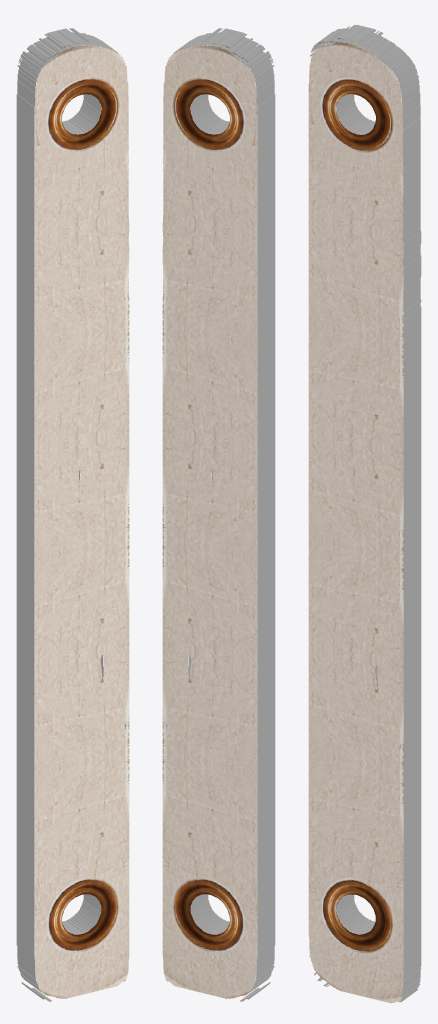
The model's file is UpperLeg.glb.
3 views of the same model, side by side, from view 1: azimuth 30°, elevation 25°; view 2: azimuth 150°, elevation 25°; view 3: azimuth 330°, elevation 25° (orthographic).
Visible parts, largest first — view 1: PaperVolume; view 2: PaperVolume; view 3: PaperVolume.
Boxes of the visible parts, x1,y1,x2,y2 form: PaperVolume: (16,28,129,1001); PaperVolume: (162,28,275,1001); PaperVolume: (308,25,421,1003).
Size of the model in its own units: 0.2623 by 2.4 by 0.08.
3 materials, 2 textured.
